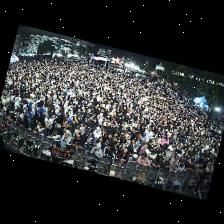person: (102, 145, 115, 170), (136, 152, 149, 167), (71, 134, 84, 149), (117, 148, 128, 165), (150, 156, 164, 169), (104, 132, 116, 146), (89, 144, 101, 158), (44, 113, 52, 134), (48, 128, 62, 140), (63, 119, 73, 135), (24, 107, 32, 125), (53, 110, 61, 128), (80, 115, 91, 128), (60, 130, 71, 143), (113, 138, 122, 153), (60, 113, 68, 129), (89, 118, 98, 132), (32, 123, 43, 134), (77, 127, 85, 142), (163, 145, 171, 160), (84, 139, 93, 152), (84, 132, 92, 146), (147, 149, 155, 163), (150, 143, 160, 154), (95, 137, 104, 149), (19, 116, 28, 128), (131, 141, 139, 154), (93, 127, 100, 141), (176, 161, 184, 173), (169, 154, 178, 164), (184, 161, 193, 171), (160, 134, 168, 145), (29, 118, 37, 129), (7, 111, 15, 122), (35, 103, 42, 115), (121, 140, 130, 149), (168, 163, 176, 172), (204, 164, 212, 173), (96, 113, 102, 125), (178, 153, 187, 161), (128, 154, 137, 162), (18, 104, 23, 118), (151, 136, 158, 146), (142, 144, 149, 154), (197, 163, 203, 174), (186, 155, 194, 163), (83, 123, 88, 134), (2, 110, 8, 119), (30, 104, 34, 117), (156, 152, 164, 158), (138, 148, 144, 156), (193, 164, 197, 175), (13, 109, 18, 117), (0, 110, 3, 115)
